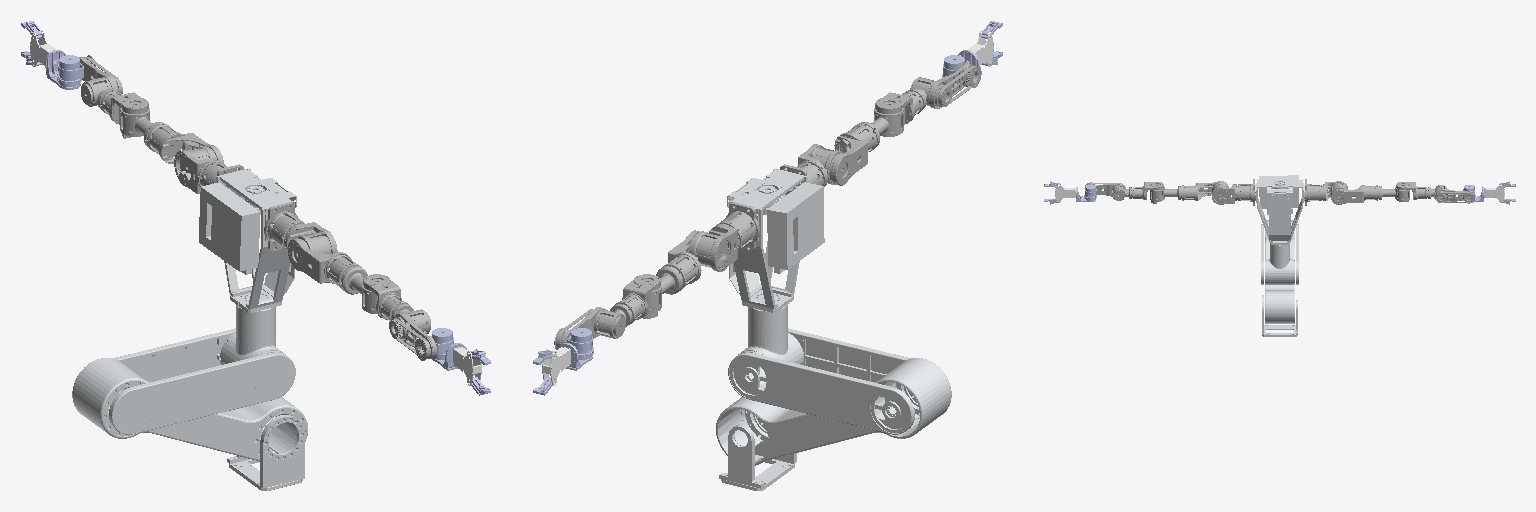
--- What the picture shows (computed from the rendered views, not written in the file) ---
The picture shows the robot from 3 angles, left to right: view 1: azimuth 30°, elevation 25°; view 2: azimuth 150°, elevation 25°; view 3: azimuth 270°, elevation 25°; orthographic projection.
Robot: galbot_one — 43 links, 42 joints (20 revolute, 4 prismatic, 18 fixed); root link base_link; default pose: every joint at zero.
Links seen in each view (by area): view 1: leg_link2, torso_base_link, leg_link1, leg_base_link, leg_link3, right_arm_link5, right_arm_link2, left_arm_link2, left_arm_link5, left_arm_link1, right_arm_base_link, right_arm_link1 (+7 smaller); view 2: leg_link2, torso_base_link, leg_link1, leg_base_link, leg_link3, left_arm_link1, right_arm_link5, right_arm_link2, left_arm_link5, left_arm_base_link, left_arm_link4, left_arm_link2 (+7 smaller); view 3: torso_base_link, leg_link1, leg_link3, left_arm_link2, left_arm_link5.
Link boxes in pixels (bbox=[...]): leg_link2: bbox=[109, 328, 295, 434]; torso_base_link: bbox=[199, 168, 296, 308]; leg_link1: bbox=[72, 358, 307, 461]; leg_base_link: bbox=[227, 415, 304, 490]; leg_link3: bbox=[220, 305, 285, 364]; right_arm_link5: bbox=[389, 304, 436, 360]; right_arm_link2: bbox=[288, 238, 360, 290]; left_arm_link2: bbox=[147, 124, 223, 163]; left_arm_link5: bbox=[79, 55, 122, 109]; left_arm_link1: bbox=[174, 146, 221, 193]; right_arm_base_link: bbox=[264, 202, 304, 251]; right_arm_link1: bbox=[284, 222, 337, 261]; leg_link2: bbox=[728, 328, 918, 434]; torso_base_link: bbox=[727, 168, 824, 308]; leg_link1: bbox=[716, 358, 951, 465]; leg_base_link: bbox=[719, 414, 796, 490]; leg_link3: bbox=[738, 305, 803, 389]; left_arm_link1: bbox=[689, 224, 739, 271]; right_arm_link5: bbox=[908, 63, 981, 109]; right_arm_link2: bbox=[831, 124, 876, 185]; left_arm_link5: bbox=[554, 304, 632, 349]; left_arm_base_link: bbox=[717, 202, 759, 251]; left_arm_link4: bbox=[615, 274, 660, 323]; left_arm_link2: bbox=[663, 230, 701, 290]; torso_base_link: bbox=[1255, 175, 1304, 242]; leg_link1: bbox=[1265, 220, 1294, 323]; leg_link3: bbox=[1265, 245, 1294, 284]; left_arm_link2: bbox=[1331, 185, 1379, 204]; left_arm_link5: bbox=[1428, 185, 1474, 203].
Bounding box of the posed robot: 0.573 × 2.22 × 0.765 m (x, y, z).
29 mesh visuals loaded from 22 distinct referenced files (15 binary STL, 3 Collada DAE); not drawn: 4 (reference not matched to a file when rendering).

The robot description file, URDF, robot "galbot_one":
<?xml version="1.0" ?>
<!-- =================================================================================== -->
<!-- |    This document was autogenerated by xacro from urdf/galbot_one/galbot_one.xacro | -->
<!-- |    EDITING THIS FILE BY HAND IS NOT RECOMMENDED                                 | -->
<!-- =================================================================================== -->
<!-- 
#####################################################################################
#
# Copyright (c) 2023-2024 Galbot, Inc. All Rights Reserved.
#
# This software contains confidential and proprietary information of Galbot, Inc.
# ("Confidential Information"). You shall not disclose such Confidential Information
# and shall use it only in accordance with the terms of the license agreement you
# entered into with Galbot, Inc.
#
# UNAUTHORIZED COPYING, USE, OR DISTRIBUTION OF THIS SOFTWARE, OR ANY PORTION OR
# DERIVATIVE THEREOF, IS STRICTLY PROHIBITED. IF YOU HAVE RECEIVED THIS SOFTWARE IN
# ERROR, PLEASE NOTIFY GALBOT, INC. IMMEDIATELY AND DELETE IT FROM YOUR SYSTEM.
#
#####################################################################################
#
# Description: Xacro file for Galbot One
# Author: Herman Ye@Galbot
#
#####################################################################################
-->
<robot name="galbot_one">
  <!-- ROBOT -->
  <!-- Robot Base Link -->
  <link name="base_link"/>
  <link name="omni_chassis_base_link">
    <inertial>
      <origin rpy="0 0 0" xyz="0.0075524 8.4084E-05 0.10968"/>
      <mass value="14.823"/>
      <inertia ixx="0.27707" ixy="-0.00017423" ixz="0.00046549" iyy="0.23617" iyz="-1.6815E-05" izz="0.41088"/>
    </inertial>
    <visual>
      <origin rpy="0 0 0" xyz="0 0 0"/>
      <geometry>
        <mesh filename="meshes/chassis/omni_chassis_base_link.stl"/>
      </geometry>
      <material name="">
        <color rgba="1 1 1 1"/>
      </material>
    </visual>
    <collision>
      <origin rpy="0 0 0" xyz="0 0 0"/>
      <geometry>
        <mesh filename="meshes/chassis/omni_chassis_base_link_aabb.stl"/>
      </geometry>
    </collision>
  </link>
  <joint name="base_joint" type="fixed">
    <origin rpy="0 0 0" xyz="0.134 0 0.035"/>
    <parent link="base_link"/>
    <child link="omni_chassis_base_link"/>
    <axis xyz="0 0 0"/>
  </joint>
  <link name="omni_chassis_leg_mount_link"/>
  <joint name="omni_chassis_leg_mount_joint" type="fixed">
    <origin rpy="0 0 0" xyz="0.134 0 0.035"/>
    <parent link="omni_chassis_base_link"/>
    <child link="omni_chassis_leg_mount_link"/>
    <axis xyz="0 0 0"/>
  </joint>
  <joint name="leg_joint" type="fixed">
    <origin rpy="0 0 0" xyz="0 0 0"/>
    <parent link="omni_chassis_leg_mount_link"/>
    <child link="leg_base_link"/>
  </joint>
  <link name="leg_base_link">
    <inertial>
      <origin rpy="0 0 0" xyz="-0.0012452 -0.008512 0.046468"/>
      <mass value="1.0654"/>
      <inertia ixx="0.0022657" ixy="6.7474E-19" ixz="-1.3806E-08" iyy="0.0023929" iyz="8.5925E-06" izz="0.0021664"/>
    </inertial>
    <visual>
      <origin rpy="0 0 0" xyz="0 0 0"/>
      <geometry>
        <mesh filename="meshes/leg/leg_base_link.stl"/>
      </geometry>
      <material name="">
        <color rgba="0.89804 0.91765 0.92941 1"/>
      </material>
    </visual>
    <collision>
      <origin rpy="0 0 0" xyz="0 0 0"/>
      <geometry>
        <mesh filename="meshes/leg/leg_base_link_aabb.stl"/>
      </geometry>
    </collision>
  </link>
  <link name="leg_link1">
    <inertial>
      <origin rpy="0 0 0" xyz="-0.0041532 0.23215 -0.0038806"/>
      <mass value="4.6762"/>
      <inertia ixx="0.16338" ixy="-0.0017441" ixz="0.00011587" iyy="0.019772" iyz="-0.0005703" izz="0.16014"/>
    </inertial>
    <visual>
      <origin rpy="0 0 0" xyz="0 0 0"/>
      <geometry>
        <mesh filename="meshes/leg/leg_link1.stl"/>
      </geometry>
      <material name="">
        <color rgba="0.89804 0.91765 0.92941 1"/>
      </material>
    </visual>
    <collision>
      <origin rpy="0 0 0" xyz="0 0 0"/>
      <geometry>
        <mesh filename="meshes/leg/leg_link1_aabb.stl"/>
      </geometry>
    </collision>
  </link>
  <joint name="leg_joint1" type="revolute">
    <origin rpy="1.5707963267948966 1.1858 3.141592653589793" xyz="0 0 0.128"/>
    <parent link="leg_base_link"/>
    <child link="leg_link1"/>
    <axis xyz="0 0 1"/>
    <limit effort="411" lower="0" upper="0.8834856673595296" velocity="2"/>
  </joint>
  <link name="leg_link2">
    <inertial>
      <origin rpy="0 0 0" xyz="2.3277E-06 0.20135 -0.0074786"/>
      <mass value="2.8861"/>
      <inertia ixx="0.05707" ixy="-1.5735E-06" ixz="-1.699E-08" iyy="0.0040153" iyz="-1.6592E-05" izz="0.060971"/>
    </inertial>
    <visual>
      <origin rpy="0 0 0" xyz="0 0 0"/>
      <geometry>
        <mesh filename="meshes/leg/leg_link2.stl"/>
      </geometry>
      <material name="">
        <color rgba="0.89804 0.91765 0.92941 1"/>
      </material>
    </visual>
    <collision>
      <origin rpy="0 0 0" xyz="0 0 0"/>
      <geometry>
        <mesh filename="meshes/leg/leg_link2_aabb.stl"/>
      </geometry>
    </collision>
  </link>
  <joint name="leg_joint2" type="revolute">
    <origin rpy="0 0 2.7566" xyz="0 0.45 0"/>
    <parent link="leg_link1"/>
    <child link="leg_link2"/>
    <axis xyz="0 0 1"/>
    <limit effort="411" lower="-3.141592653589793" upper="0" velocity="2"/>
  </joint>
  <link name="leg_link3">
    <inertial>
      <origin rpy="0 0 0" xyz="4.3015E-06 0.050547 -0.0041075"/>
      <mass value="1.2932"/>
      <inertia ixx="0.0037364" ixy="6.4237E-07" ixz="9.773E-07" iyy="0.0035864" iyz="-4.7459E-05" izz="0.0036381"/>
    </inertial>
    <visual>
      <origin rpy="0 0 0" xyz="0 0 0"/>
      <geometry>
        <mesh filename="meshes/leg/leg_link3.stl"/>
      </geometry>
      <material name="">
        <color rgba="0.89804 0.91765 0.92941 1"/>
      </material>
    </visual>
    <collision>
      <origin rpy="0 0 0" xyz="0 0 0"/>
      <geometry>
        <mesh filename="meshes/leg/leg_link3_aabb.stl"/>
      </geometry>
    </collision>
  </link>
  <joint name="leg_joint3" type="revolute">
    <origin rpy="0 0 -1.5707963267948966" xyz="0 0.39 0"/>
    <parent link="leg_link2"/>
    <child link="leg_link3"/>
    <axis xyz="0 0 1"/>
    <limit effort="157" lower="-1.57079632679" upper="+1.57079632679" velocity="2"/>
  </joint>
  <link name="leg_link4">
    <inertial>
      <origin rpy="0 0 0" xyz="8.4626E-05 -4.4739E-05 0.0053562"/>
      <mass value="0.19842"/>
      <inertia ixx="0.00016414" ixy="-2.33E-07" ixz="5.9814E-09" iyy="0.00016377" iyz="-3.1622E-09" izz="0.00032482"/>
    </inertial>
    <visual>
      <origin rpy="0 0 0" xyz="0 0 0"/>
      <geometry>
        <mesh filename="meshes/leg/leg_link4.stl"/>
      </geometry>
      <material name="">
        <color rgba="0.89804 0.91765 0.92941 1"/>
      </material>
    </visual>
    <collision>
      <origin rpy="0 0 0" xyz="0 0 0"/>
      <geometry>
        <mesh filename="meshes/leg/leg_link4_aabb.stl"/>
      </geometry>
    </collision>
  </link>
  <joint name="leg_joint4" type="revolute">
    <origin rpy="1.5707963267948966 0 -3.141592653589793" xyz="0 0.163 0"/>
    <parent link="leg_link3"/>
    <child link="leg_link4"/>
    <axis xyz="0 0 1"/>
    <limit effort="66" lower="-1.5707963267948966" upper="+1.5707963267948966" velocity="2"/>
  </joint>
  <joint name="leg_torso_mount_joint" type="fixed">
    <origin rpy="0 0 0" xyz="0 0 0.01"/>
    <parent link="leg_link4"/>
    <child link="leg_torso_mount_link"/>
    <axis xyz="0 0 1"/>
  </joint>
  <link name="leg_torso_mount_link"/>
  <joint name="torso_joint" type="fixed">
    <origin rpy="0 0 0" xyz="0 0 0"/>
    <parent link="leg_torso_mount_link"/>
    <child link="torso_base_link"/>
  </joint>
  <link name="torso_base_link">
    <inertial>
      <origin rpy="0 0 0" xyz="-0.027572 -0.0025645 0.18663"/>
      <mass value="2.9691"/>
      <inertia ixx="0.016883" ixy="7.2561E-05" ixz="-4.1323E-05" iyy="0.012009" iyz="-1.2975E-05" izz="0.0074767"/>
    </inertial>
    <visual>
      <origin rpy="0 0 0" xyz="0 0 0"/>
      <geometry>
        <mesh filename="meshes/torso/torso.stl"/>
      </geometry>
      <material name="">
        <color rgba="0.89804 0.91765 0.92941 1"/>
      </material>
    </visual>
    <collision>
      <origin rpy="0 0 0" xyz="0 0 0"/>
      <geometry>
        <mesh filename="meshes/torso/torso_aabb.stl"/>
      </geometry>
    </collision>
  </link>
  <!-- Head Mount -->
  <link name="torso_head_mount_link"/>
  <joint name="torso_head_mount_joint" type="fixed">
    <origin rpy="0 0 0" xyz="0 0 0.2875"/>
    <parent link="torso_base_link"/>
    <child link="torso_head_mount_link"/>
    <axis xyz="0 0 0"/>
  </joint>
  <!-- Right Arm Mount -->
  <link name="torso_right_arm_mount_link"/>
  <joint name="torso_right_arm_mount_joint" type="fixed">
    <origin rpy="1.5707963267948966 -1.5707963267948966 0" xyz="0 -0.11805 0.2375"/>
    <parent link="torso_base_link"/>
    <child link="torso_right_arm_mount_link"/>
    <axis xyz="0 0 0"/>
  </joint>
  <!-- Left Arm Mount -->
  <link name="torso_left_arm_mount_link"> </link>
  <joint name="torso_left_arm_mount_joint" type="fixed">
    <origin rpy="1.5707963267948966 -1.5707963267948966 0" xyz="0 0.11805 0.2375"/>
    <parent link="torso_base_link"/>
    <child link="torso_left_arm_mount_link"/>
    <axis xyz="0 0 0"/>
  </joint>
  <joint name="head_joint" type="fixed">
    <origin rpy="0 0 0" xyz="0 0 0"/>
    <parent link="torso_head_mount_link"/>
    <child link="head_base_link"/>
  </joint>
  <link name="head_base_link">
    <inertial>
      <origin rpy="0 0 0" xyz="2.8174E-05 4.4192E-05 0.026611"/>
      <mass value="0.34013"/>
      <inertia ixx="0.00017046" ixy="-1.5263E-08" ixz="2.7006E-07" iyy="0.00023937" iyz="4.4134E-07" izz="0.00023946"/>
    </inertial>
    <visual>
      <origin rpy="0 0 0" xyz="0 0 0"/>
      <geometry>
        <mesh filename="meshes/head/head_base_link.stl"/>
      </geometry>
      <material name="">
        <color rgba="0.89804 0.91765 0.92941 1"/>
      </material>
    </visual>
    <collision>
      <origin rpy="0 0 0" xyz="0 0 0"/>
      <geometry>
        <mesh filename="meshes/head/head_base_link_aabb.stl"/>
      </geometry>
    </collision>
  </link>
  <link name="head_motor_yaw_link">
    <inertial>
      <origin rpy="0 0 0" xyz="0.060943 -0.0042049 0.013422"/>
      <mass value="0.3007"/>
      <inertia ixx="0.00017407" ixy="5.4933E-07" ixz="1.9726E-07" iyy="0.0002335" iyz="-4.3666E-07" izz="0.00023763"/>
    </inertial>
    <visual>
      <origin rpy="0 0 0" xyz="0 0 0"/>
      <geometry>
        <mesh filename="meshes/head/head_motor_yaw_link.stl"/>
      </geometry>
      <material name="">
        <color rgba="0.89804 0.91765 0.92941 1"/>
      </material>
    </visual>
    <collision>
      <origin rpy="0 0 0" xyz="0 0 0"/>
      <geometry>
        <mesh filename="meshes/head/head_motor_yaw_link_aabb.stl"/>
      </geometry>
    </collision>
  </link>
  <joint name="head_motor_yaw_joint" type="revolute">
    <!-- <origin rpy="0 0 0" xyz="0 0 0"/> -->
    <origin rpy="0 0 0" xyz="0 0 0.0746"/>
    <parent link="head_base_link"/>
    <child link="head_motor_yaw_link"/>
    <axis xyz="0 0 1"/>
    <!-- Constrain the yaw motor (-90, +90) -->
    <limit effort="60" lower="-1.5707963267948966" upper="1.5707963267948966" velocity="1.5"/>
    <dynamics damping="0.5" friction="0"/>
  </joint>
  <link name="head_motor_pitch_link">
    <inertial>
      <origin rpy="0 0 0" xyz="0.046748 0.0077596 -0.033083"/>
      <mass value="0.56901"/>
      <inertia ixx="0.0032613" ixy="8.7738E-06" ixz="-2.3333E-06" iyy="0.0031112" iyz="1.3221E-06" izz="0.0015503"/>
    </inertial>
    <visual>
      <origin rpy="0 0 0" xyz="0 0 0"/>
      <geometry>
        <mesh filename="meshes/head/head_motor_pitch_link.stl"/>
      </geometry>
      <material name="">
        <color rgba="0.89804 0.91765 0.92941 1"/>
      </material>
    </visual>
    <collision>
      <origin rpy="0 0 0" xyz="0 0 0"/>
      <geometry>
        <mesh filename="meshes/head/head_motor_pitch_link_aabb.stl"/>
      </geometry>
    </collision>
  </link>
  <joint name="head_motor_pitch_joint" type="revolute">
    <origin rpy="1.5707963267948966 -1.5707963267948966 0" xyz="0.074 -0.0345 0.0146"/>
    <parent link="head_motor_yaw_link"/>
    <child link="head_motor_pitch_link"/>
    <axis xyz="0 0 1"/>
    <!-- Constrain the pitch motor (-70, +3) -->
    <limit effort="60" lower="-1.2217304763960306" upper="0.05235987755982988" velocity="1.5"/>
    <dynamics damping="0.5" friction="0"/>
  </joint>
  <link name="head_camera_mount_link">
    <inertial>
      <origin rpy="0 0 0" xyz="-0.055827 0.032071 0.0047467"/>
      <mass value="0.30512"/>
      <inertia ixx="0.00025424" ixy="-1.1252E-06" ixz="2.9462E-05" iyy="0.00047177" iyz="9.9043E-08" izz="0.00067985"/>
    </inertial>
    <visual>
      <origin rpy="0 0 0" xyz="0 0 0"/>
      <geometry>
        <mesh filename="meshes/head/head_camera_link.stl"/>
      </geometry>
      <material name="">
        <color rgba="1 1 1 1"/>
      </material>
    </visual>
    <collision>
      <origin rpy="0 0 0" xyz="0 0 0"/>
      <geometry>
        <mesh filename="meshes/head/head_camera_link_aabb.stl"/>
      </geometry>
    </collision>
  </link>
  <joint name="head_camera_mount_joint" type="fixed">
    <origin rpy="-1.5707963267948966 0 -1.5707963267948966" xyz="0.091 -0.0566 -0.0035"/>
    <parent link="head_motor_pitch_link"/>
    <child link="head_camera_mount_link"/>
    <axis xyz="0 0 0"/>
  </joint>
  <joint name="left_arm_joint" type="fixed">
    <origin rpy="-3.141592653589793 0 1.5707963267948966" xyz="0 0 0"/>
    <parent link="torso_left_arm_mount_link"/>
    <child link="left_arm_base_link"/>
  </joint>
  <link name="left_arm_base_link">
    <inertial>
      <origin rpy="0 0 0" xyz="0.00053759 -0.0064563 0.047133"/>
      <mass value="0.42402"/>
      <inertia ixx="0.00032797" ixy="-3.2021E-07" ixz="7.8672E-06" iyy="0.00030712" iyz="1.1227E-06" izz="0.0003995"/>
    </inertial>
    <visual>
      <origin rpy="0 0 0" xyz="0 0 0"/>
      <geometry>
        <mesh filename="meshes/arm/base_link.stl"/>
      </geometry>
      <material name="">
        <color rgba="0.75294 0.75294 0.75294 1"/>
      </material>
    </visual>
    <collision>
      <origin rpy="0 0 0" xyz="0 0 0"/>
      <geometry>
        <mesh filename="meshes/arm/base_link_aabb.stl"/>
      </geometry>
    </collision>
  </link>
  <link name="left_arm_link1">
    <inertial>
      <origin rpy="0 0 0" xyz="-0.00053387 0.0013806 -0.0079585"/>
      <mass value="0.41938"/>
      <inertia ixx="0.00033462" ixy="-7.7588E-06" ixz="-6.7213E-07" iyy="0.00037323" iyz="2.132E-05" izz="0.00032753"/>
    </inertial>
    <visual>
      <origin rpy="0 0 0" xyz="0 0 0"/>
      <geometry>
        <mesh filename="meshes/arm/link1.stl"/>
      </geometry>
      <material name="">
        <color rgba="0.75294 0.75294 0.75294 1"/>
      </material>
    </visual>
    <collision>
      <origin rpy="0 0 0" xyz="0 0 0"/>
      <geometry>
        <mesh filename="meshes/arm/link1_aabb.stl"/>
      </geometry>
    </collision>
  </link>
  <joint name="left_arm_joint1" type="revolute">
    <origin rpy="0 0 1.5707963267948966" xyz="0 0 0.16"/>
    <parent link="left_arm_base_link"/>
    <child link="left_arm_link1"/>
    <axis xyz="0 0 1"/>
    <limit effort="60" lower="-2.94" upper="2.94" velocity="1.5"/>
  </joint>
  <link name="left_arm_link2">
    <inertial>
      <origin rpy="0 0 0" xyz="5.6769E-05 0.12878 0.0099789"/>
      <mass value="0.35274"/>
      <inertia ixx="0.00041467" ixy="6.6686E-07" ixz="2.7602E-07" iyy="0.00023745" iyz="4.3582E-05" izz="0.00041598"/>
    </inertial>
    <visual>
      <origin rpy="0 0 0" xyz="0 0 0"/>
      <geometry>
        <mesh filename="meshes/arm/link2.stl"/>
      </geometry>
      <material name="">
        <color rgba="0.75294 0.75294 0.75294 1"/>
      </material>
    </visual>
    <collision>
      <origin rpy="0 0 0" xyz="0 0 0"/>
      <geometry>
        <mesh filename="meshes/arm/link2_aabb.stl"/>
      </geometry>
    </collision>
  </link>
  <joint name="left_arm_joint2" type="revolute">
    <origin rpy="-1.5707963267948966 3.141592653589793 0" xyz="0 0 0"/>
    <parent link="left_arm_link1"/>
    <child link="left_arm_link2"/>
    <axis xyz="0 0 1"/>
    <limit effort="60" lower="-2.1" upper="1.57" velocity="1.5"/>
  </joint>
  <link name="left_arm_link3">
    <inertial>
      <origin rpy="0 0 0" xyz="-0.00033263 -0.0012705 -0.013763"/>
      <mass value="0.29633"/>
      <inertia ixx="0.00035616" ixy="3.2634E-06" ixz="1.0656E-06" iyy="0.00035666" iyz="-2.912E-06" izz="0.00016442"/>
    </inertial>
    <visual>
      <origin rpy="0 0 0" xyz="0 0 0"/>
      <geometry>
        <mesh filename="meshes/arm/link3.stl"/>
      </geometry>
      <material name="">
        <color rgba="0.75294 0.75294 0.75294 1"/>
      </material>
    </visual>
    <collision>
      <origin rpy="0 0 0" xyz="0 0 0"/>
      <geometry>
        <mesh filename="meshes/arm/link3_aabb.stl"/>
      </geometry>
    </collision>
  </link>
  <joint name="left_arm_joint3" type="revolute">
    <origin rpy="1.5707963267948966 -1.5707963267948966 3.141592653589793" xyz="0 0.3 0"/>
    <parent link="left_arm_link2"/>
    <child link="left_arm_link3"/>
    <axis xyz="0 0 1"/>
    <limit effort="30" lower="-2.94" upper="2.94" velocity="1.5"/>
  </joint>
  <link name="left_arm_link4">
    <inertial>
      <origin rpy="0 0 0" xyz="2.1198E-06 0.077687 0.0066608"/>
      <mass value="0.2008"/>
      <inertia ixx="0.0001258" ixy="-1.5851E-09" ixz="-3.5207E-09" iyy="0.00010461" iyz="1.7211E-05" izz="0.00012018"/>
    </inertial>
    <visual>
      <origin rpy="0 0 0" xyz="0 0 0"/>
      <geometry>
        <mesh filename="meshes/arm/link4.stl"/>
      </geometry>
      <material name="">
        <color rgba="0.75294 0.75294 0.75294 1"/>
      </material>
    </visual>
    <collision>
      <origin rpy="0 0 0" xyz="0 0 0"/>
      <geometry>
        <mesh filename="meshes/arm/link4_aabb.stl"/>
      </geometry>
    </collision>
  </link>
  <joint name="left_arm_joint4" type="revolute">
    <origin rpy="1.5707963267948966 0 0" xyz="0 0 0"/>
    <parent link="left_arm_link3"/>
    <child link="left_arm_link4"/>
    <axis xyz="0 0 1"/>
    <limit effort="30" lower="-2.1" upper="2.1" velocity="1.5"/>
  </joint>
  <link name="left_arm_link5">
    <inertial>
      <origin rpy="0 0 0" xyz="-5.8154E-07 -0.016828 -0.1072"/>
      <mass value="0.30236"/>
      <inertia ixx="0.00025776" ixy="-6.7445E-10" ixz="-3.5859E-09" iyy="0.00029228" iyz="3.4788E-06" izz="0.00010798"/>
    </inertial>
    <visual>
      <origin rpy="0 0 0" xyz="0 0 0"/>
      <geometry>
        <mesh filename="meshes/arm/link5.stl"/>
      </geometry>
      <material name="">
        <color rgba="0.75294 0.75294 0.75294 1"/>
      </material>
    </visual>
    <collision>
      <origin rpy="0 0 0" xyz="0 0 0"/>
      <geometry>
        <mesh filename="meshes/arm/link5_aabb.stl"/>
      </geometry>
    </collision>
  </link>
  <joint name="left_arm_joint5" type="revolute">
    <origin rpy="-1.5707963267948966 1.5707963267948966 0" xyz="0 0.3125 0"/>
    <parent link="left_arm_link4"/>
    <child link="left_arm_link5"/>
    <axis xyz="0 0 1"/>
    <limit effort="10" lower="-2.94" upper="2.94" velocity="1.5"/>
  </joint>
  <link name="left_arm_link6">
    <inertial>
      <origin rpy="0 0 0" xyz="1.6525E-06 -0.00044516 0.0010371"/>
      <mass value="0.14462"/>
      <inertia ixx="5.2919E-05" ixy="1.1618E-09" ixz="2.443E-09" iyy="5.7022E-05" iyz="-4.9349E-07" izz="5.2342E-05"/>
    </inertial>
    <visual>
      <origin rpy="0 0 0" xyz="0 0 0"/>
      <geometry>
        <mesh filename="meshes/arm/link6.stl"/>
      </geometry>
      <material name="">
        <color rgba="0.79216 0.81961 0.93333 1"/>
      </material>
    </visual>
    <collision>
      <origin rpy="0 0 0" xyz="0 0 0"/>
      <geometry>
        <mesh filename="meshes/arm/link6_aabb.stl"/>
      </geometry>
    </collision>
  </link>
  <joint name="left_arm_joint6" type="revolute">
    <origin rpy="1.5707963267948966 -1.5707963267948966 0" xyz="0 0 0"/>
    <parent link="left_arm_link5"/>
    <child link="left_arm_link6"/>
    <axis xyz="0 0 1"/>
    <limit effort="10" lower="-1.57" upper="1.57" velocity="1.5"/>
  </joint>
  <link name="left_arm_link7">
    <inertial>
      <origin rpy="0 0 0" xyz="0.043308 -2.8972E-08 0.018548"/>
      <mass value="0.042354"/>
      <inertia ixx="2.5589E-05" ixy="2.0865E-12" ixz="1.2866E-05" iyy="4.7623E-05" iyz="-1.1256E-13" izz="4.3905E-05"/>
    </inertial>
    <visual>
      <origin rpy="0 0 0" xyz="0 0 0"/>
      <geometry>
        <mesh filename="meshes/arm/link7.stl"/>
      </geometry>
      <material name="">
        <color rgba="0.79216 0.81961 0.93333 1"/>
      </material>
    </visual>
    <collision>
      <origin rpy="0 0 0" xyz="0 0 0"/>
      <geometry>
        <mesh filename="meshes/arm/link7_aabb.stl"/>
      </geometry>
    </collision>
  </link>
  <joint name="left_arm_joint7" type="revolute">
    <origin rpy="1.5707963267948966 0 0" xyz="0 0 0"/>
    <parent link="left_arm_link6"/>
    <child link="left_arm_link7"/>
    <axis xyz="0 0 1"/>
    <limit effort="10" lower="-1.57" upper="0.69" velocity="1.5"/>
  </joint>
  <link name="left_arm_end_effector_mount_link"/>
  <joint name="left_arm_end_effector_mount_joint" type="fixed">
    <origin rpy="0 0 0" xyz="0.07 0 0"/>
    <parent link="left_arm_link7"/>
    <child link="left_arm_end_effector_mount_link"/>
    <axis xyz="0 0 0"/>
  </joint>

  <!-- Left Arm Flange: -->
  <!-- Gripper Flange: -->
  <joint name="gripper_left_joint" type="fixed">
    <origin rpy="0 1.5707963267948966 0" xyz="0 0 0"/>
    <parent link="left_arm_end_effector_mount_link"/>
    <child link="gripper_left_base_link"/>
  </joint>
  <link name="gripper_left_base_link">
    <inertial>
      <origin rpy="0 0 0" xyz="1.5645E-05 -4.1843E-06 0.038"/>
      <mass value="0.072633"/>
      <inertia ixx="5.095E-05" ixy="-4.256E-14" ixz="2.0229E-08" iyy="6.0883E-05" iyz="-4.5583E-09" izz="1.933E-05"/>
    </inertial>
    <visual>
      <origin rpy="0 0 0" xyz="0 0 0"/>
      <geometry>
        <mesh filename="meshes/gripper/gripper_inspire_base_link.dae"/>
      </geometry>
      <material name="">
        <color rgba="1 1 1 1"/>
      </material>
    </visual>
    <collision>
      <origin rpy="0 0 0" xyz="0 0 0"/>
      <geometry>
        <mesh filename="meshes/gripper/gripper_inspire_base_link_convex.stl"/>
      </geometry>
    </collision>
  </link>
  <link name="gripper_left_left_link">
    <inertial>
      <origin rpy="0 0 0" xyz="-0.018807 -0.0090021 -0.0046901"/>
      <mass value="0.010721"/>
      <inertia ixx="5.1508E-07" ixy="1.2231E-10" ixz="2.8973E-07" iyy="1.5709E-06" iyz="7.2401E-11" izz="1.6904E-06"/>
    </inertial>
    <visual>
      <origin rpy="0 0 0" xyz="0 0 0"/>
      <geometry>
        <mesh filename="meshes/gripper/gripper_inspire_left_link.dae"/>
      </geometry>
      <material name="">
        <color rgba="0.79216 0.81961 0.93333 1"/>
      </material>
    </visual>
    <collision>
      <origin rpy="0 0 0" xyz="0 0 0"/>
      <geometry>
        <mesh filename="meshes/gripper/gripper_inspire_left_link_convex.stl"/>
      </geometry>
    </collision>
  </link>
  <joint name="gripper_left_left_joint" type="prismatic">
    <origin rpy="3.141592653589793 -1.5707963267948966 0" xyz="-0.034907 -0.009 0.12953"/>
    <parent link="gripper_left_base_link"/>
    <child link="gripper_left_left_link"/>
    <axis xyz="0 0 -1"/>
    <limit effort="0" lower="-0.035" upper="0" velocity="2"/>
  </joint>
  <link name="gripper_left_right_link">
    <inertial>
      <origin rpy="0 0 0" xyz="-0.018807 0.0089979 -0.0046901"/>
      <mass value="0.010721"/>
      <inertia ixx="5.1508E-07" ixy="1.2231E-10" ixz="2.8973E-07" iyy="1.5709E-06" iyz="7.2401E-11" izz="1.6904E-06"/>
    </inertial>
    <visual>
      <origin rpy="0 0 0" xyz="0 0 0"/>
      <geometry>
        <mesh filename="meshes/gripper/gripper_inspire_right_link.dae"/>
      </geometry>
      <material name="">
        <color rgba="0.79216 0.81961 0.93333 1"/>
      </material>
    </visual>
    <collision>
      <origin rpy="0 0 0" xyz="0 0 0"/>
      <geometry>
        <mesh filename="meshes/gripper/gripper_inspire_right_link_convex.stl"/>
      </geometry>
    </collision>
  </link>
  <joint name="gripper_left_right_joint" type="prismatic">
    <origin rpy="3.141592653589793 -1.5707963267948966 3.141592653589793" xyz="0.034907 -0.009 0.12953"/>
    <parent link="gripper_left_base_link"/>
    <child link="gripper_left_right_link"/>
    <axis xyz="0 0 1"/>
    <limit effort="0" lower="0" upper="0.035" velocity="2"/>
    <!-- mimic not supported in isaac sim 2023.1.0-hotfix  -->
    <!-- <mimic joint="${name}_left_joint" multiplier="-1" offset="0" /> -->
  </joint>
  <!-- Tool Center Point -->
  <link name="left_gripper_inspire_tcp_frame"/>
  <joint name="gripper_left_tcp_joint" type="fixed">
    <origin rpy="0 3.141592653589793 0" xyz="0 0 0.13751"/>
    <parent link="gripper_left_base_link"/>
    <child link="left_gripper_inspire_tcp_frame"/>
    <axis xyz="0 0 0"/>
  </joint>

  <joint name="right_arm_joint" type="fixed">
    <origin rpy="0 0 -1.5707963267948966" xyz="0 0 0"/>
    <parent link="torso_right_arm_mount_link"/>
    <child link="right_arm_base_link"/>
  </joint>
  <link name="right_arm_base_link">
    <inertial>
      <origin rpy="0 0 0" xyz="0.00053759 -0.0064563 0.047133"/>
      <mass value="0.42402"/>
      <inertia ixx="0.00032797" ixy="-3.2021E-07" ixz="7.8672E-06" iyy="0.00030712" iyz="1.1227E-06" izz="0.0003995"/>
    </inertial>
    <visual>
      <origin rpy="0 0 0" xyz="0 0 0"/>
      <geometry>
        <mesh filename="meshes/arm/base_link.stl"/>
      </geometry>
      <material name="">
        <color rgba="0.75294 0.75294 0.75294 1"/>
      </material>
    </visual>
    <collision>
      <origin rpy="0 0 0" xyz="0 0 0"/>
      <geometry>
        <mesh filename="meshes/arm/base_link_aabb.stl"/>
      </geometry>
    </collision>
  </link>
  <link name="right_arm_link1">
    <inertial>
      <origin rpy="0 0 0" xyz="-0.00053387 0.0013806 -0.0079585"/>
      <mass value="0.41938"/>
      <inertia ixx="0.00033462" ixy="-7.7588E-06" ixz="-6.7213E-07" iyy="0.00037323" iyz="2.132E-05" izz="0.00032753"/>
    </inertial>
    <visual>
      <origin rpy="0 0 0" xyz="0 0 0"/>
      <geometry>
        <mesh filename="meshes/arm/link1.stl"/>
      </geometry>
      <material name="">
        <color rgba="0.75294 0.75294 0.75294 1"/>
      </material>
    </visual>
    <collision>
      <origin rpy="0 0 0" xyz="0 0 0"/>
      <geometry>
        <mesh filename="meshes/arm/link1_aabb.stl"/>
      </geometry>
    </collision>
  </link>
  <joint name="right_arm_joint1" type="revolute">
    <origin rpy="0 0 1.5707963267948966" xyz="0 0 0.16"/>
    <parent link="right_arm_base_link"/>
    <child link="right_arm_link1"/>
    <axis xyz="0 0 1"/>
    <limit effort="60" lower="-2.94" upper="2.94" velocity="1.5"/>
  </joint>
  <link name="right_arm_link2">
    <inertial>
      <origin rpy="0 0 0" xyz="5.6769E-05 0.12878 0.0099789"/>
      <mass value="0.35274"/>
      <inertia ixx="0.00041467" ixy="6.6686E-07" ixz="2.7602E-07" iyy="0.00023745" iyz="4.3582E-05" izz="0.00041598"/>
    </inertial>
    <visual>
      <origin rpy="0 0 0" xyz="0 0 0"/>
      <geometry>
        <mesh filename="meshes/arm/link2.stl"/>
      </geometry>
      <material name="">
        <color rgba="0.75294 0.75294 0.75294 1"/>
      </material>
    </visual>
    <collision>
      <origin rpy="0 0 0" xyz="0 0 0"/>
      <geometry>
        <mesh filename="meshes/arm/link2_aabb.stl"/>
      </geometry>
    </collision>
  </link>
  <joint name="right_arm_joint2" type="revolute">
    <origin rpy="-1.5707963267948966 3.141592653589793 0" xyz="0 0 0"/>
    <parent link="right_arm_link1"/>
    <child link="right_arm_link2"/>
    <axis xyz="0 0 1"/>
    <limit effort="60" lower="-2.1" upper="1.57" velocity="1.5"/>
  </joint>
  <link name="right_arm_link3">
    <inertial>
      <origin rpy="0 0 0" xyz="-0.00033263 -0.0012705 -0.013763"/>
      <mass value="0.29633"/>
      <inertia ixx="0.00035616" ixy="3.2634E-06" ixz="1.0656E-06" iyy="0.00035666" iyz="-2.912E-06" izz="0.00016442"/>
    </inertial>
    <visual>
      <origin rpy="0 0 0" xyz="0 0 0"/>
      <geometry>
        <mesh filename="meshes/arm/link3.stl"/>
      </geometry>
      <material name="">
        <color rgba="0.75294 0.75294 0.75294 1"/>
      </material>
    </visual>
    <collision>
      <origin rpy="0 0 0" xyz="0 0 0"/>
      <geometry>
        <mesh filename="meshes/arm/link3_aabb.stl"/>
      </geometry>
    </collision>
  </link>
  <joint name="right_arm_joint3" type="revolute">
    <origin rpy="1.5707963267948966 -1.5707963267948966 3.141592653589793" xyz="0 0.3 0"/>
    <parent link="right_arm_link2"/>
    <child link="right_arm_link3"/>
    <axis xyz="0 0 1"/>
    <limit effort="30" lower="-2.94" upper="2.94" velocity="1.5"/>
  </joint>
  <link name="right_arm_link4">
    <inertial>
      <origin rpy="0 0 0" xyz="2.1198E-06 0.077687 0.0066608"/>
      <mass value="0.2008"/>
      <inertia ixx="0.0001258" ixy="-1.5851E-09" ixz="-3.5207E-09" iyy="0.00010461" iyz="1.7211E-05" izz="0.00012018"/>
    </inertial>
    <visual>
      <origin rpy="0 0 0" xyz="0 0 0"/>
      <geometry>
        <mesh filename="meshes/arm/link4.stl"/>
      </geometry>
      <material name="">
        <color rgba="0.75294 0.75294 0.75294 1"/>
      </material>
    </visual>
    <collision>
      <origin rpy="0 0 0" xyz="0 0 0"/>
      <geometry>
        <mesh filename="meshes/arm/link4_aabb.stl"/>
      </geometry>
    </collision>
  </link>
  <joint name="right_arm_joint4" type="revolute">
    <origin rpy="1.5707963267948966 0 0" xyz="0 0 0"/>
    <parent link="right_arm_link3"/>
    <child link="right_arm_link4"/>
    <axis xyz="0 0 1"/>
    <limit effort="30" lower="-2.1" upper="2.1" velocity="1.5"/>
  </joint>
  <link name="right_arm_link5">
    <inertial>
      <origin rpy="0 0 0" xyz="-5.8154E-07 -0.016828 -0.1072"/>
      <mass value="0.30236"/>
      <inertia ixx="0.00025776" ixy="-6.7445E-10" ixz="-3.5859E-09" iyy="0.00029228" iyz="3.4788E-06" izz="0.00010798"/>
    </inertial>
    <visual>
      <origin rpy="0 0 0" xyz="0 0 0"/>
      <geometry>
        <mesh filename="meshes/arm/link5.stl"/>
      </geometry>
      <material name="">
        <color rgba="0.75294 0.75294 0.75294 1"/>
      </material>
    </visual>
    <collision>
      <origin rpy="0 0 0" xyz="0 0 0"/>
      <geometry>
        <mesh filename="meshes/arm/link5_aabb.stl"/>
      </geometry>
    </collision>
  </link>
  <joint name="right_arm_joint5" type="revolute">
    <origin rpy="-1.5707963267948966 1.5707963267948966 0" xyz="0 0.3125 0"/>
    <parent link="right_arm_link4"/>
    <child link="right_arm_link5"/>
    <axis xyz="0 0 1"/>
    <limit effort="10" lower="-2.94" upper="2.94" velocity="1.5"/>
  </joint>
  <link name="right_arm_link6">
    <inertial>
      <origin rpy="0 0 0" xyz="1.6525E-06 -0.00044516 0.0010371"/>
      <mass value="0.14462"/>
      <inertia ixx="5.2919E-05" ixy="1.1618E-09" ixz="2.443E-09" iyy="5.7022E-05" iyz="-4.9349E-07" izz="5.2342E-05"/>
    </inertial>
    <visual>
      <origin rpy="0 0 0" xyz="0 0 0"/>
      <geometry>
        <mesh filename="meshes/arm/link6.stl"/>
      </geometry>
      <material name="">
        <color rgba="0.79216 0.81961 0.93333 1"/>
      </material>
    </visual>
    <collision>
      <origin rpy="0 0 0" xyz="0 0 0"/>
      <geometry>
        <mesh filename="meshes/arm/link6_aabb.stl"/>
      </geometry>
    </collision>
  </link>
  <joint name="right_arm_joint6" type="revolute">
    <origin rpy="1.5707963267948966 -1.5707963267948966 0" xyz="0 0 0"/>
    <parent link="right_arm_link5"/>
    <child link="right_arm_link6"/>
    <axis xyz="0 0 1"/>
    <limit effort="10" lower="-1.57" upper="1.57" velocity="1.5"/>
  </joint>
  <link name="right_arm_link7">
    <inertial>
      <origin rpy="0 0 0" xyz="0.043308 -2.8972E-08 0.018548"/>
      <mass value="0.042354"/>
      <inertia ixx="2.5589E-05" ixy="2.0865E-12" ixz="1.2866E-05" iyy="4.7623E-05" iyz="-1.1256E-13" izz="4.3905E-05"/>
    </inertial>
    <visual>
      <origin rpy="0 0 0" xyz="0 0 0"/>
      <geometry>
        <mesh filename="meshes/arm/link7.stl"/>
      </geometry>
      <material name="">
        <color rgba="0.79216 0.81961 0.93333 1"/>
      </material>
    </visual>
    <collision>
      <origin rpy="0 0 0" xyz="0 0 0"/>
      <geometry>
        <mesh filename="meshes/arm/link7_aabb.stl"/>
      </geometry>
    </collision>
  </link>
  <joint name="right_arm_joint7" type="revolute">
    <origin rpy="1.5707963267948966 0 0" xyz="0 0 0"/>
    <parent link="right_arm_link6"/>
    <child link="right_arm_link7"/>
    <axis xyz="0 0 1"/>
    <limit effort="10" lower="-1.57" upper="0.69" velocity="1.5"/>
  </joint>
  <link name="right_arm_end_effector_mount_link"/>
  <joint name="right_arm_end_effector_mount_joint" type="fixed">
    <origin rpy="0 0 0" xyz="0.07 0 0"/>
    <parent link="right_arm_link7"/>
    <child link="right_arm_end_effector_mount_link"/>
    <axis xyz="0 0 0"/>
  </joint>
  <!-- Right Arm Flange: -->
  <!-- Gripper Flange: -->
  
  <joint name="gripper_right_joint" type="fixed">
    <origin rpy="0 1.5707963267948966 0" xyz="0 0 0"/>
    <parent link="right_arm_end_effector_mount_link"/>
    <child link="gripper_right_base_link"/>
  </joint>
  <link name="gripper_right_base_link">
    <inertial>
      <origin rpy="0 0 0" xyz="1.5645E-05 -4.1843E-06 0.038"/>
      <mass value="0.072633"/>
      <inertia ixx="5.095E-05" ixy="-4.256E-14" ixz="2.0229E-08" iyy="6.0883E-05" iyz="-4.5583E-09" izz="1.933E-05"/>
    </inertial>
    <visual>
      <origin rpy="0 0 0" xyz="0 0 0"/>
      <geometry>
        <mesh filename="meshes/gripper/gripper_inspire_base_link.dae"/>
      </geometry>
      <material name="">
        <color rgba="1 1 1 1"/>
      </material>
    </visual>
    <collision>
      <origin rpy="0 0 0" xyz="0 0 0"/>
      <geometry>
        <mesh filename="meshes/gripper/gripper_inspire_base_link_convex.stl"/>
      </geometry>
    </collision>
  </link>
  <link name="gripper_right_left_link">
    <inertial>
      <origin rpy="0 0 0" xyz="-0.018807 -0.0090021 -0.0046901"/>
      <mass value="0.010721"/>
      <inertia ixx="5.1508E-07" ixy="1.2231E-10" ixz="2.8973E-07" iyy="1.5709E-06" iyz="7.2401E-11" izz="1.6904E-06"/>
    </inertial>
    <visual>
      <origin rpy="0 0 0" xyz="0 0 0"/>
      <geometry>
        <mesh filename="meshes/gripper/gripper_inspire_left_link.dae"/>
      </geometry>
      <material name="">
        <color rgba="0.79216 0.81961 0.93333 1"/>
      </material>
    </visual>
    <collision>
      <origin rpy="0 0 0" xyz="0 0 0"/>
      <geometry>
        <mesh filename="meshes/gripper/gripper_inspire_left_link_convex.stl"/>
      </geometry>
    </collision>
  </link>
  <joint name="gripper_right_left_joint" type="prismatic">
    <origin rpy="3.141592653589793 -1.5707963267948966 0" xyz="-0.034907 -0.009 0.12953"/>
    <parent link="gripper_right_base_link"/>
    <child link="gripper_right_left_link"/>
    <axis xyz="0 0 -1"/>
    <limit effort="0" lower="-0.035" upper="0" velocity="2"/>
  </joint>
  <link name="gripper_right_right_link">
    <inertial>
      <origin rpy="0 0 0" xyz="-0.018807 0.0089979 -0.0046901"/>
      <mass value="0.010721"/>
      <inertia ixx="5.1508E-07" ixy="1.2231E-10" ixz="2.8973E-07" iyy="1.5709E-06" iyz="7.2401E-11" izz="1.6904E-06"/>
    </inertial>
    <visual>
      <origin rpy="0 0 0" xyz="0 0 0"/>
      <geometry>
        <mesh filename="meshes/gripper/gripper_inspire_right_link.dae"/>
      </geometry>
      <material name="">
        <color rgba="0.79216 0.81961 0.93333 1"/>
      </material>
    </visual>
    <collision>
      <origin rpy="0 0 0" xyz="0 0 0"/>
      <geometry>
        <mesh filename="meshes/gripper/gripper_inspire_right_link_convex.stl"/>
      </geometry>
    </collision>
  </link>
  <joint name="gripper_right_right_joint" type="prismatic">
    <origin rpy="3.141592653589793 -1.5707963267948966 3.141592653589793" xyz="0.034907 -0.009 0.12953"/>
    <parent link="gripper_right_base_link"/>
    <child link="gripper_right_right_link"/>
    <axis xyz="0 0 1"/>
    <limit effort="0" lower="0" upper="0.035" velocity="2"/>
    <!-- mimic not supported in isaac sim 2023.1.0-hotfix  -->
    <!-- <mimic joint="${name}_right_joint" multiplier="-1" offset="0" /> -->
  </joint>
  <!-- Tool Center Point -->
  <link name="right_gripper_inspire_tcp_frame"/>
  <joint name="gripper_right_tcp_joint" type="fixed">
    <origin rpy="0 3.141592653589793 0" xyz="0 0 0.13751"/>
    <parent link="gripper_right_base_link"/>
    <child link="right_gripper_inspire_tcp_frame"/>
    <axis xyz="0 0 0"/>
  </joint>
</robot>
